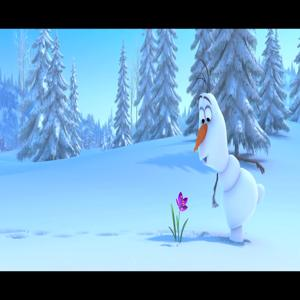olaf: (190, 55, 266, 244)
